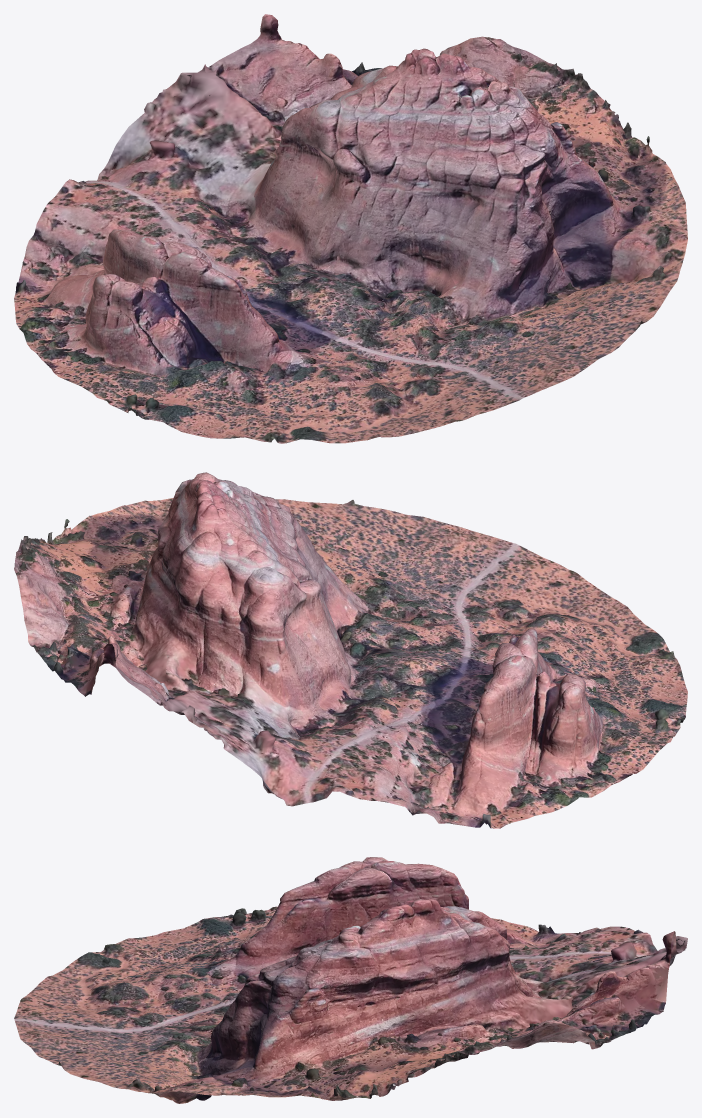
3 renders of one model, top to bottom at view 1: azimuth 30°, elevation 25°; view 2: azimuth 150°, elevation 25°; view 3: azimuth 270°, elevation 25°, orthographic.
Bounding box in the file's own units: 36.34 × 12.22 × 36.34.
1 material, 1 textured.
